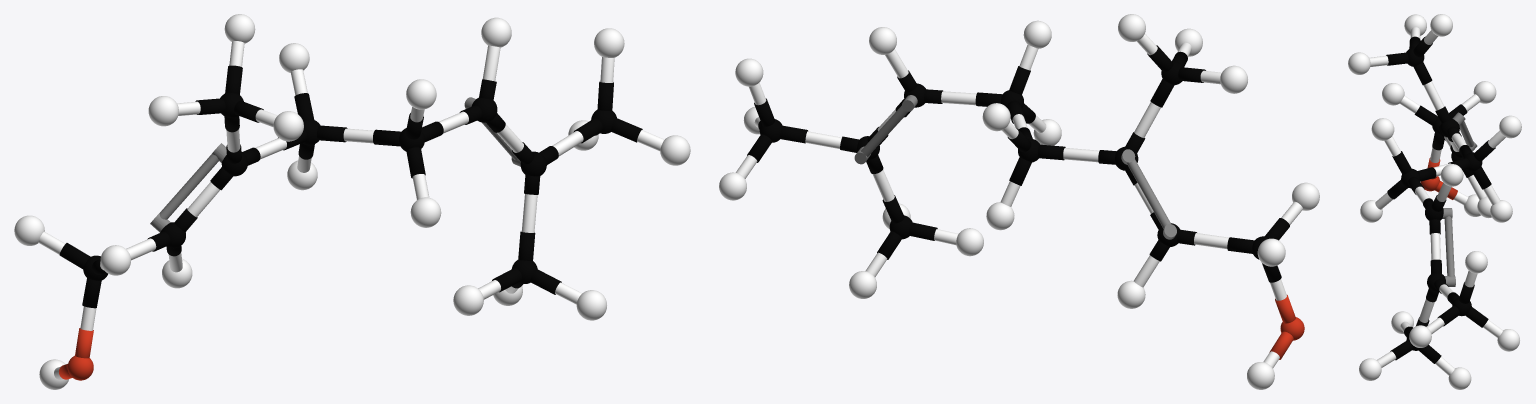
The model's file is Geraniol.dae.
3 views of the same model, side by side, from view 1: azimuth 30°, elevation 25°; view 2: azimuth 150°, elevation 25°; view 3: azimuth 270°, elevation 25° (orthographic). The views are drawn at different scales.
Visible parts, largest first — view 1: Liaison_double, Hydrogène_014, Hydrogène_008, Hydrogène_002, Hydrogène_013, Hydrogène_4, Hydrogène_011, Hydrogène_003, Hydrogène_005, Hydrogène_007, Hydrogène_006, Hydrogène_015 (+5 smaller); view 2: Liaison_double, Liaison_double_001, Hydrogène_005, Hydrogène_015, Hydrogène_010, Hydrogène_012, Hydrogène_006, Hydrogène_001, Hydrogène_011, Hydrogène_016, Hydrogène_4, Hydrogène_000 (+6 smaller); view 3: Liaison_double_001, Hydrogène_003, Hydrogène_012, Hydrogène_013, Hydrogène_002, Hydrogène_005, Hydrogène_007, Hydrogène_006, Hydrogène_010, Hydrogène_014, Hydrogène_000, Hydrogène_001 (+49 smaller).
Part boxes in pixels (box(x1,y1,x2,y2)): Liaison_double: box(150, 143, 226, 232); Hydrogène_014: box(100, 245, 130, 275); Hydrogène_008: box(410, 197, 441, 227); Hydrogène_002: box(576, 290, 606, 320); Hydrogène_013: box(273, 111, 303, 141); Hydrogène_4: box(453, 285, 483, 315); Hydrogène_011: box(148, 96, 178, 126); Hydrogène_003: box(660, 135, 690, 165); Hydrogène_005: box(594, 28, 624, 57); Hydrogène_007: box(406, 79, 436, 109); Hydrogène_006: box(481, 17, 511, 47); Hydrogène_015: box(14, 215, 44, 245); Liaison_double: box(1121, 149, 1176, 239); Liaison_double_001: box(854, 95, 917, 164); Hydrogène_005: box(735, 58, 763, 86); Hydrogène_015: box(1257, 238, 1285, 266); Hydrogène_010: box(982, 103, 1010, 131); Hydrogène_012: box(1118, 14, 1145, 41); Hydrogène_006: box(869, 27, 896, 54); Hydrogène_001: box(719, 172, 746, 200); Hydrogène_011: box(1220, 65, 1247, 93); Hydrogène_016: box(1247, 362, 1274, 389); Hydrogène_4: box(956, 228, 983, 256); Hydrogène_000: box(849, 271, 876, 298); Liaison_double_001: box(1442, 208, 1455, 286); Hydrogène_003: box(1409, 325, 1431, 347); Hydrogène_012: box(1430, 14, 1452, 36); Hydrogène_013: box(1348, 52, 1370, 74); Hydrogène_002: box(1359, 358, 1381, 380); Hydrogène_005: box(1465, 251, 1487, 273); Hydrogène_007: box(1371, 118, 1394, 140); Hydrogène_006: box(1441, 164, 1463, 186); Hydrogène_010: box(1499, 115, 1521, 138); Hydrogène_014: box(1382, 83, 1404, 105); Hydrogène_000: box(1448, 367, 1471, 389); Hydrogène_001: box(1497, 329, 1519, 351).
Bounding box in the file's own units: 10.2 × 3.29 × 5.68.
